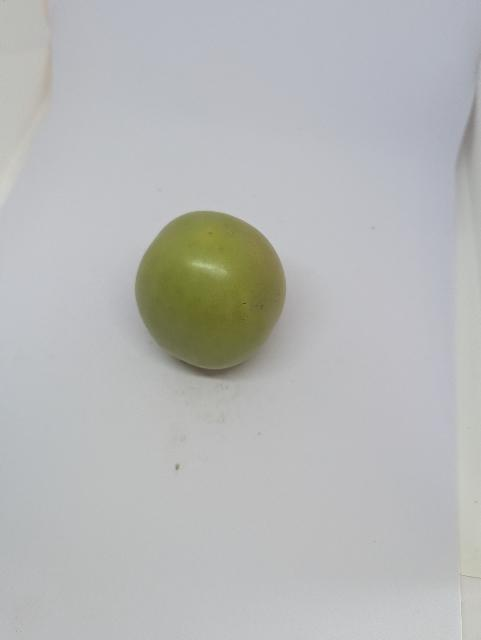green: (106, 196, 300, 385)
